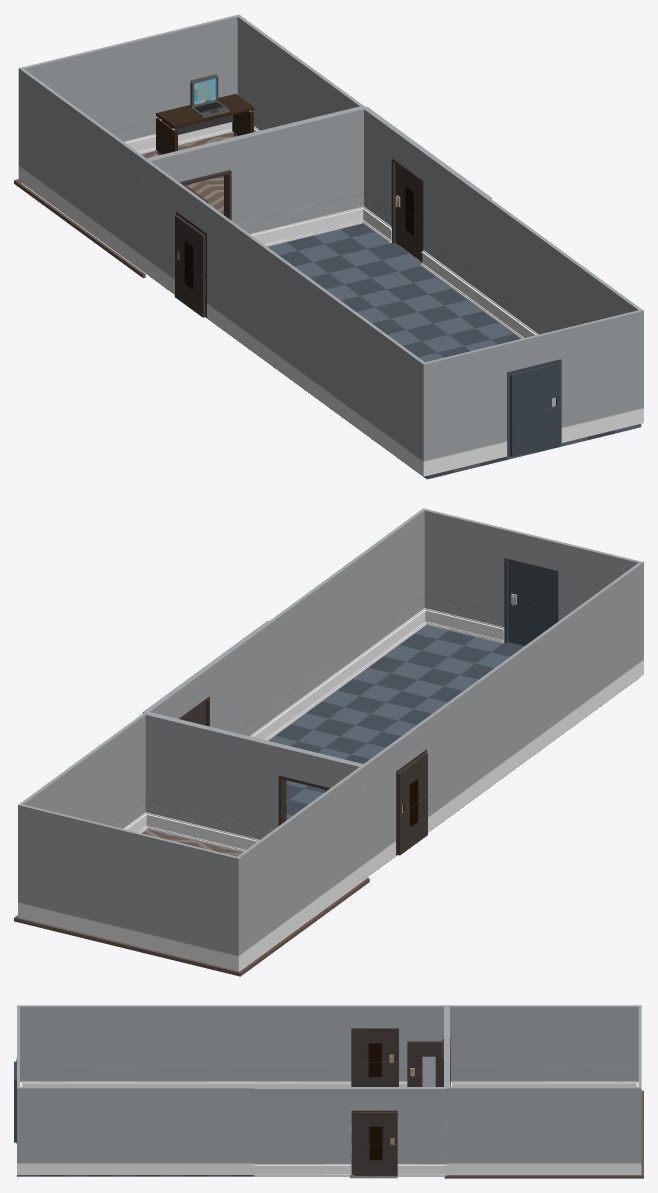
The model's file is CuertoDeNuestrosNutotoriales.fbx.
3 views of the same model, one above another, from view 1: azimuth 30°, elevation 25°; view 2: azimuth 150°, elevation 25°; view 3: azimuth 270°, elevation 25° (orthographic). The views are drawn at different scales.
Parts seen in each view (by area): view 1: Caja_524; view 2: Caja_524; view 3: Caja_524.
Part boxes in pixels (left/top/right/bottom): Caja_524: left=14, top=14, right=643, bottom=479; Caja_524: left=14, top=508, right=643, bottom=976; Caja_524: left=14, top=1005, right=643, bottom=1178.
Bounding box in the file's own units: 546 × 264 × 1688.
1 material, 1 textured.
